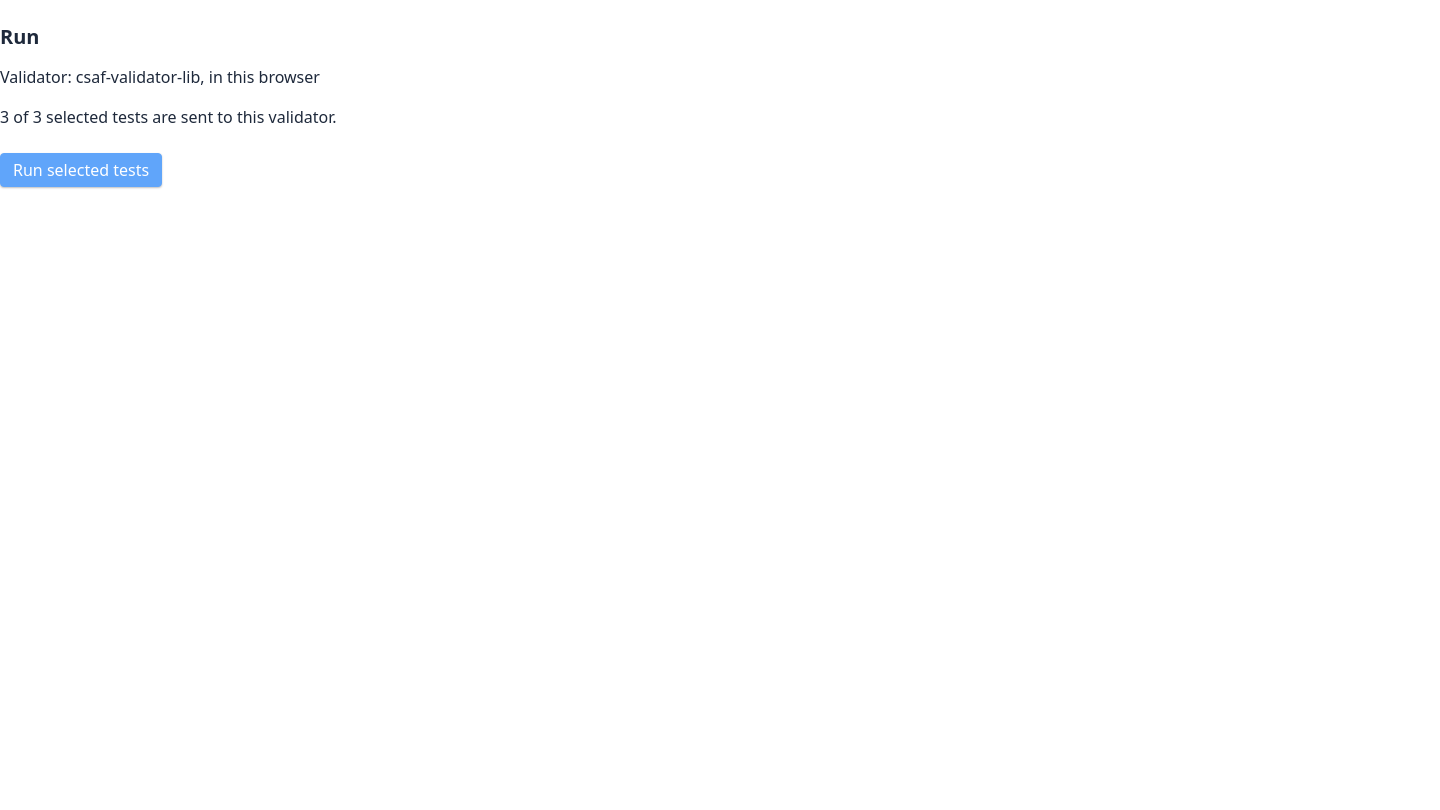
confirming network-enabled tests › runs the whole selection, network tests included, only after confirmation
Click the button "Run selected tests". click: click(81, 170)
box: [0,153,162,187]
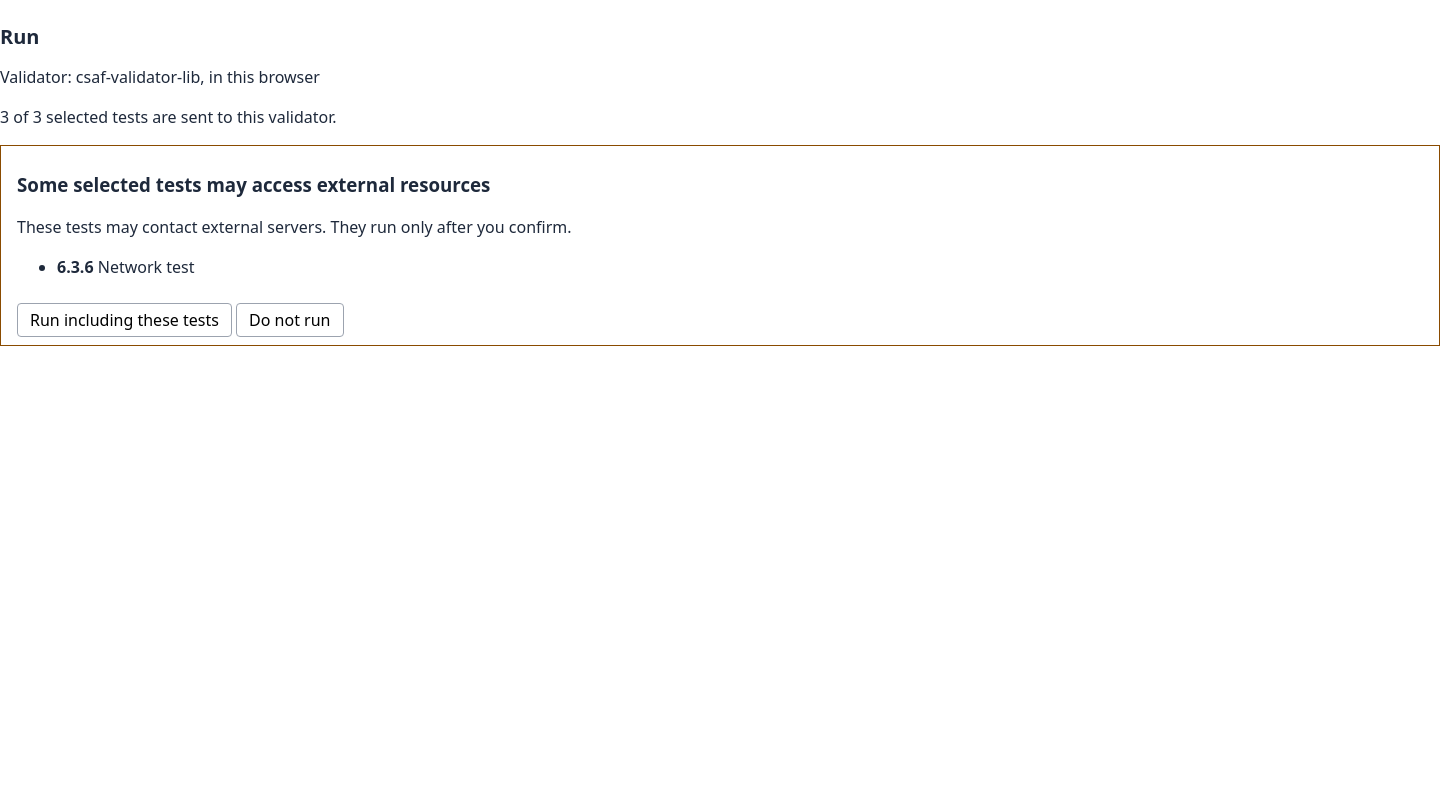
Click the button "Run including these tests". click: click(124, 320)
box: [17,303,232,337]
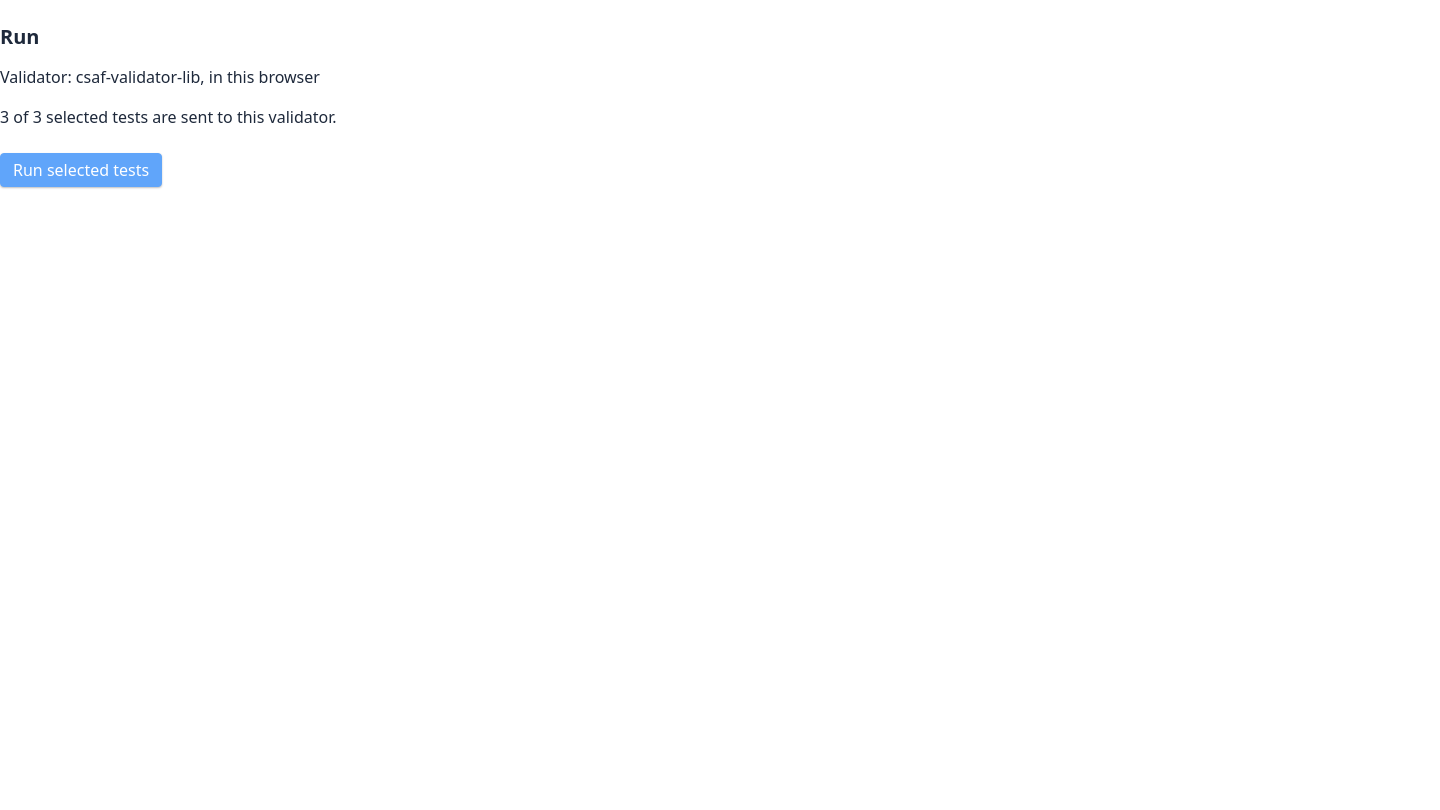
Expected: the dialog is gone
